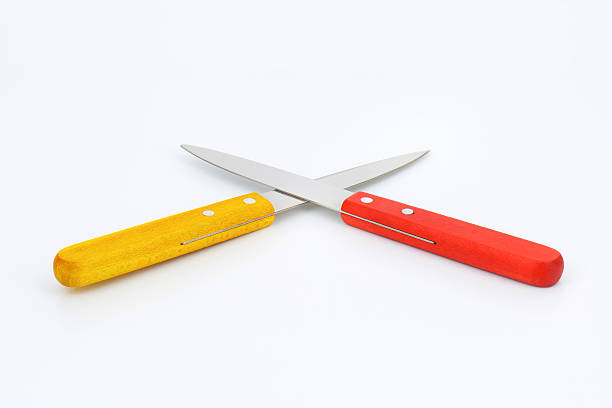knife: (178, 140, 566, 289), (52, 148, 433, 289)
